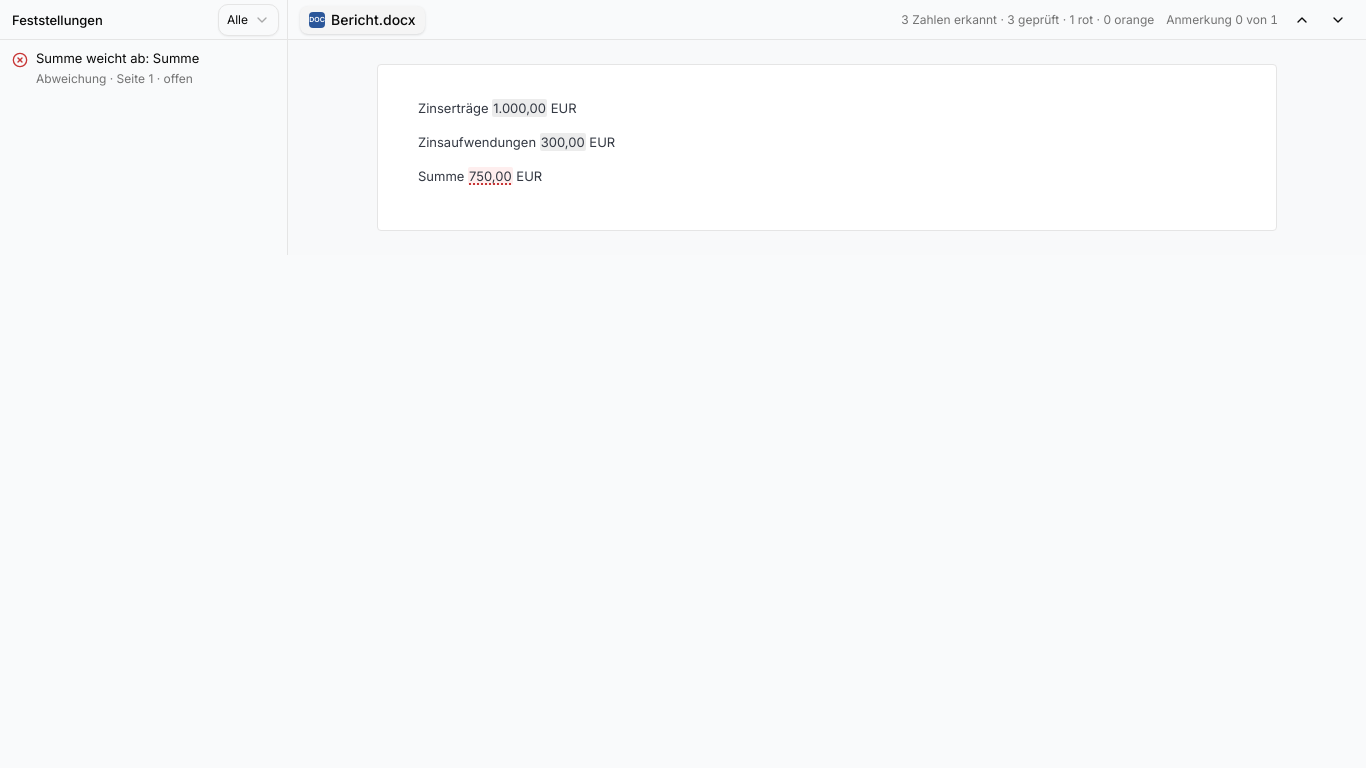
PlausibilityWorkspace popover › shows the reason, actual and expected, and the calculation as a table
What coordinates should you click on to do the following:
click the button "750,00"
I would click on:
 (490, 176)
Its box is [468, 167, 513, 185].
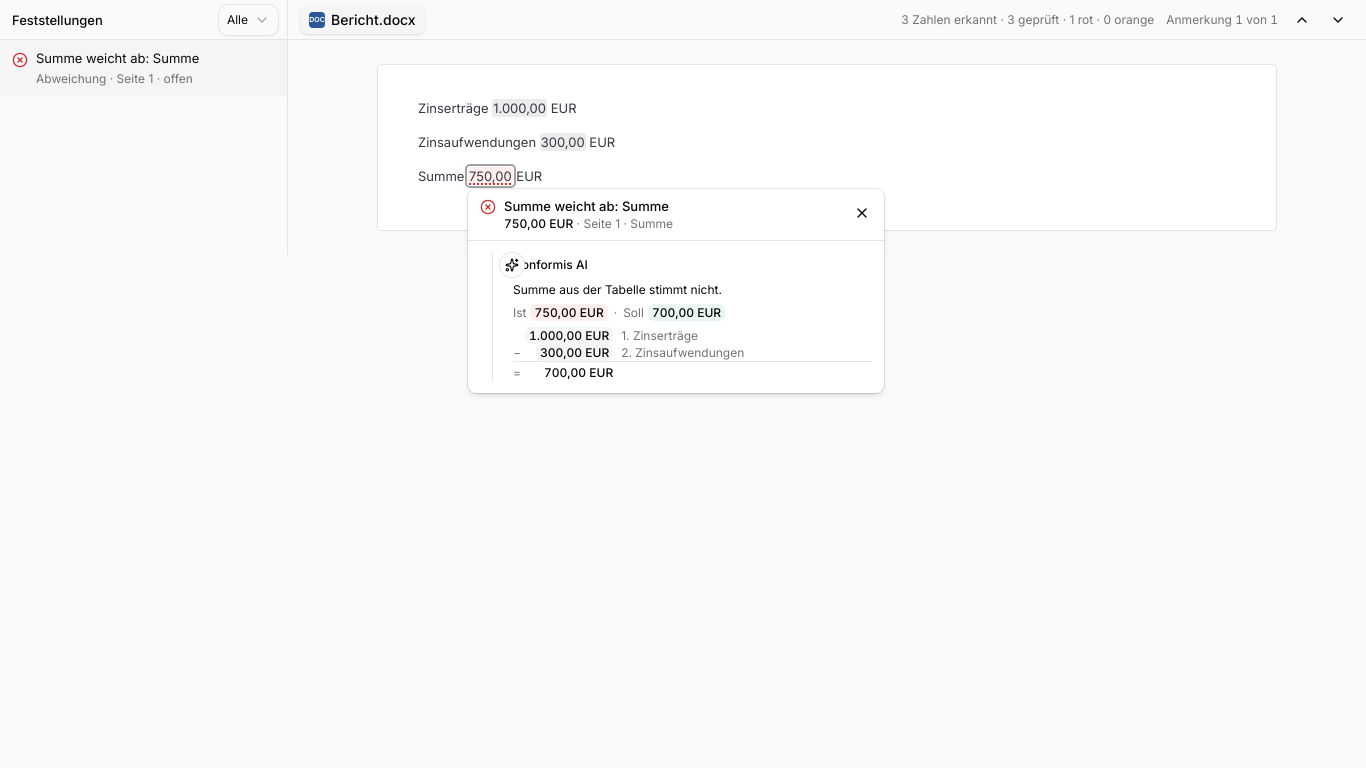
Expected: the 2nd text "Summe weicht ab: Summe" is shown, [504, 198, 669, 214]
Expected: the text "Conformis AI" is shown, [513, 257, 588, 272]
Expected: the text "Summe aus der Tabelle stimmt nicht." is shown, [513, 282, 722, 297]
